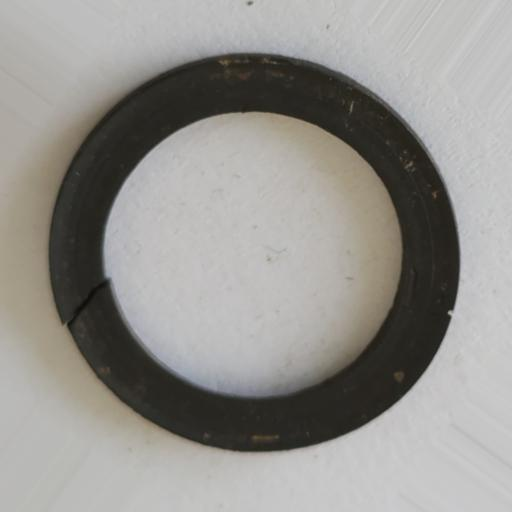defect: (66, 277, 113, 330)
